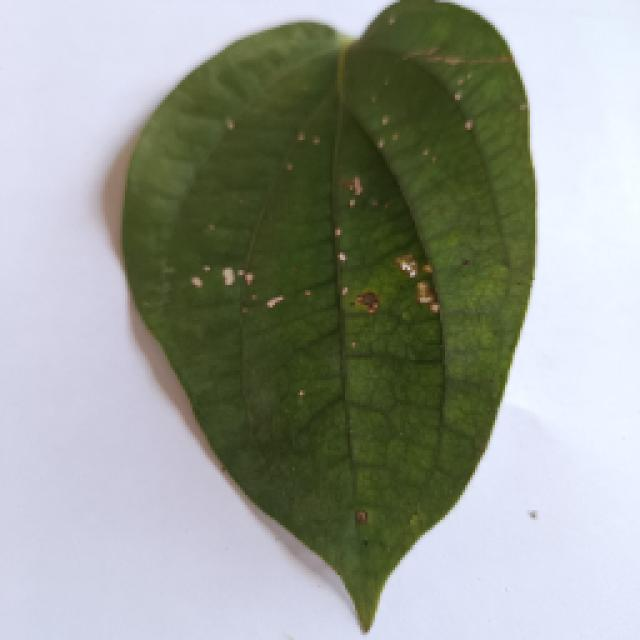pollu-disease: (75, 17, 587, 635)
